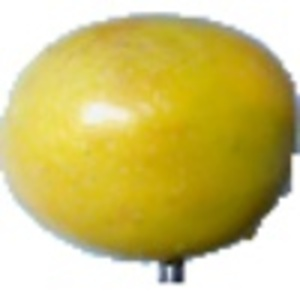maracujá: (1, 5, 300, 286)
